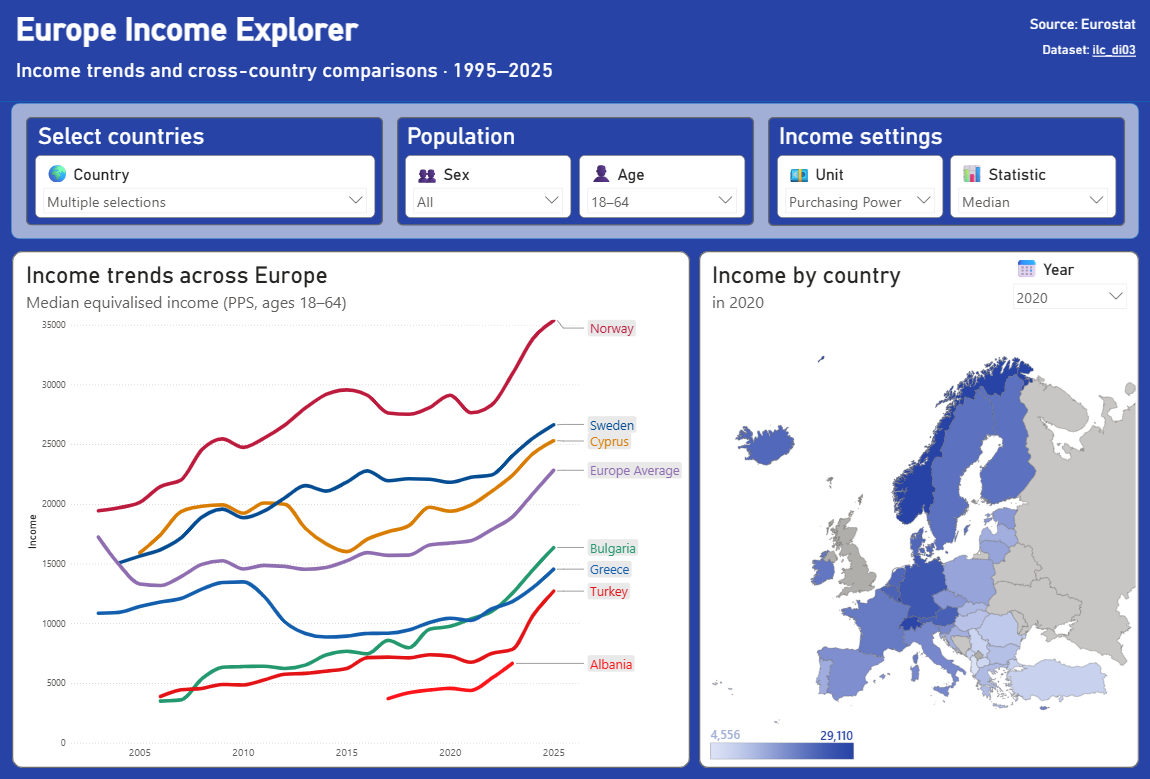

Layout of this report page (visuals, bound fields, positions):
{"tool":"powerbi","page":{"name":"Income Distribution Dashboard","canvas":[1920,1300],"ordinal":0},"visuals":[{"type":"shape","title":"Background","box":[0,0,1920,1400],"z":0},{"type":"shape","title":"Line Chart Background","box":[21.7,420,1130,861.7],"z":1000},{"type":"shape","title":"Map Background","box":[1166.7,420,733.3,861.7],"z":2000},{"type":"shape","title":"Filters Background","box":[20,173.3,1880,226.7],"z":3000},{"type":"shape","title":"Title Background","box":[0,0,1920,171.7],"z":4000},{"type":"shape","title":"Countries Background","box":[45.7,196.7,595,180.6],"z":5000},{"type":"shape","title":"Demographics Background","box":[663,196,595,180.7],"z":6000},{"type":"shape","title":"Income Background","box":[1281.7,195.8,595,181.7],"z":7000},{"type":"shapeMap","title":"Income by country","fields":{"Category":["dim_country.country_name"]},"box":[1184,436,716,840],"z":8000},{"type":"lineChart","title":"Income trends across Europe","fields":{"Category":["fact_income.year"],"Series":["dim_country.country_name"],"Y":["Sum(fact_income.income)"]},"box":[40,436,1112,840],"z":9000},{"type":"slicer","fields":{"Values":["dim_country.country_name"]},"box":[59.5,259.5,567,105.5],"z":10000},{"type":"slicer","fields":{"Values":["fact_income.year"]},"box":[1680,423.3,210,96.7],"z":11000},{"type":"slicer","fields":{"Values":["dim_sex.sex_label"]},"box":[676.7,259.4,277,105],"z":12000},{"type":"slicer","fields":{"Values":["dim_age.age_label"]},"box":[966.7,260,276.7,105],"z":13000},{"type":"slicer","fields":{"Values":["dim_unit.unit_label"]},"box":[1295.9,259.4,277,105],"z":14000},{"type":"slicer","fields":{"Values":["dim_statinfo.statinfo_label"]},"box":[1585,260,276.7,105],"z":15000},{"type":"textbox","title":"Title","box":[22.5,0,931.7,141.7],"z":16000},{"type":"image","title":"Map Legend","box":[1185,1232.6,240,40],"z":17000},{"type":"cardVisual","title":"Legend Max","fields":{"Data":["fact_income.Legend Max"]},"box":[1305,1191.2,147.1,67.1],"z":18000},{"type":"cardVisual","title":"Legend Min","fields":{"Data":["fact_income.Legend Min"]},"box":[1156.7,1187.1,163.4,74.7],"z":19000},{"type":"textbox","title":"Countries Select","box":[60,200,308.3,70],"z":20000},{"type":"textbox","title":"Population Select","box":[674.8,200,203.8,70.8],"z":21000},{"type":"textbox","title":"Unit Settings Select","box":[1295,200,296.7,71.7],"z":22000},{"type":"textbox","box":[1692.5,22.5,206.7,95],"z":23000}]}

Visuals, with their boxes in screenshot pixels (x1, y1, x2, y2), scaled from the page's 1920x1300 canvas onto the 1150x779 screenshot:
"Background" shape: (x1=0, y1=0, x2=1149, y2=778)
"Line Chart Background" shape: (x1=13, y1=252, x2=690, y2=768)
"Map Background" shape: (x1=699, y1=252, x2=1138, y2=768)
"Filters Background" shape: (x1=12, y1=104, x2=1138, y2=240)
"Title Background" shape: (x1=0, y1=0, x2=1149, y2=103)
"Countries Background" shape: (x1=27, y1=118, x2=384, y2=226)
"Demographics Background" shape: (x1=397, y1=117, x2=753, y2=226)
"Income Background" shape: (x1=768, y1=117, x2=1124, y2=226)
"Income by country" shapeMap: (x1=709, y1=261, x2=1138, y2=765)
"Income trends across Europe" lineChart: (x1=24, y1=261, x2=690, y2=765)
slicer - dim_country.country_name: (x1=36, y1=156, x2=375, y2=219)
slicer - fact_income.year: (x1=1006, y1=254, x2=1132, y2=312)
slicer - dim_sex.sex_label: (x1=405, y1=155, x2=571, y2=218)
slicer - dim_age.age_label: (x1=579, y1=156, x2=745, y2=219)
slicer - dim_unit.unit_label: (x1=776, y1=155, x2=942, y2=218)
slicer - dim_statinfo.statinfo_label: (x1=949, y1=156, x2=1115, y2=219)
"Title" textbox: (x1=13, y1=0, x2=572, y2=85)
"Map Legend" image: (x1=710, y1=739, x2=854, y2=763)
"Legend Max" cardVisual: (x1=782, y1=714, x2=870, y2=754)
"Legend Min" cardVisual: (x1=693, y1=711, x2=791, y2=756)
"Countries Select" textbox: (x1=36, y1=120, x2=221, y2=162)
"Population Select" textbox: (x1=404, y1=120, x2=526, y2=162)
"Unit Settings Select" textbox: (x1=776, y1=120, x2=953, y2=163)
textbox: (x1=1014, y1=13, x2=1138, y2=70)
